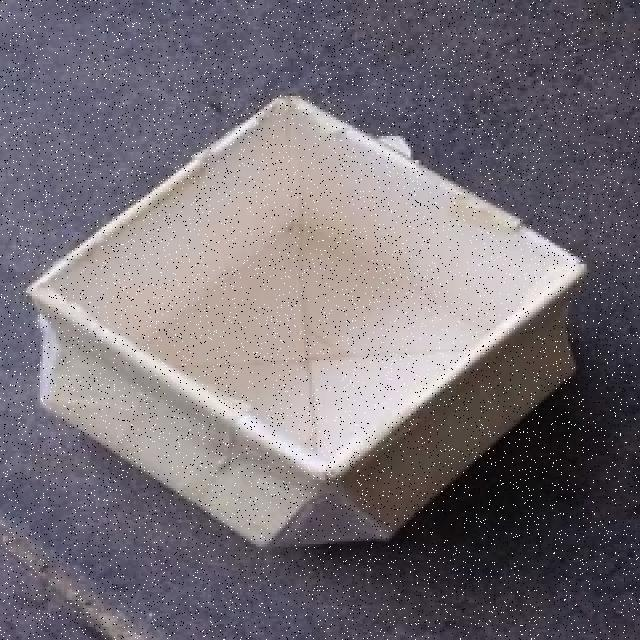box: (0, 80, 622, 546)
